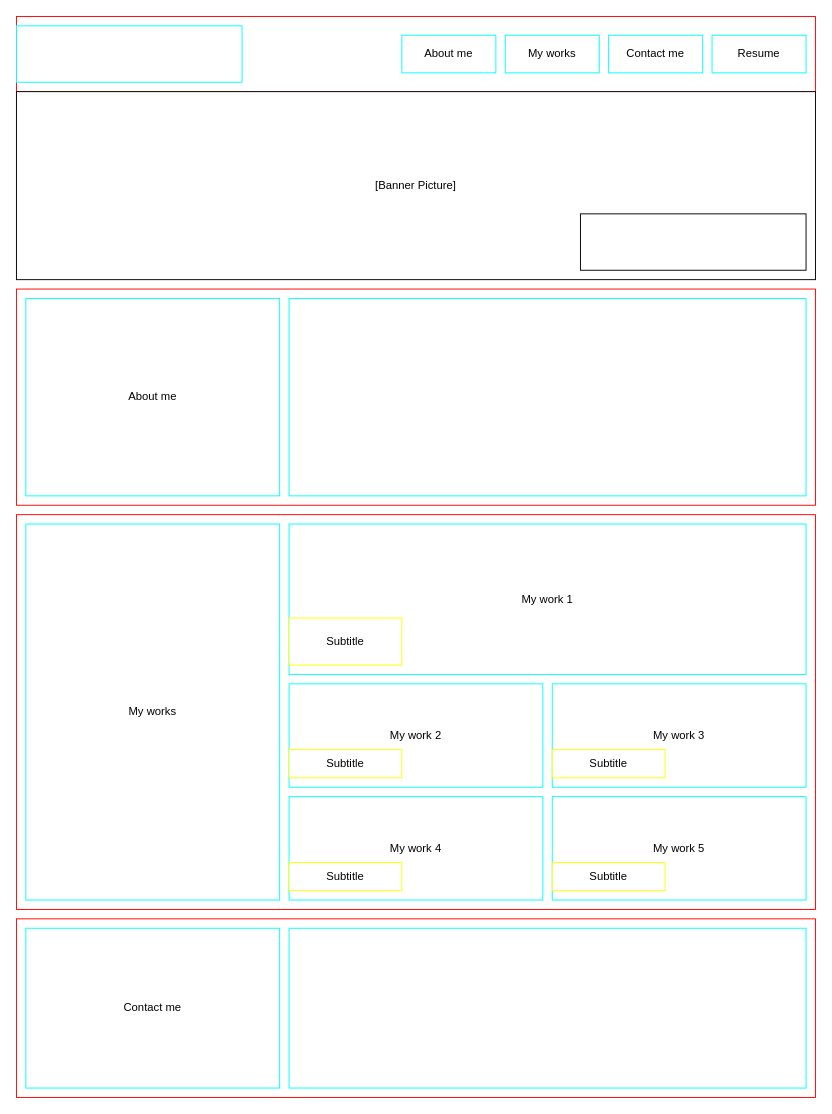
Image size: 832x1114. Some labels were removed from this diagram. Here are the shapes that lost their labels. From the top down, the centre of each, then its label:
pixel 129 53: My Name Here
pixel 693 241: Cool subtitle here!
pixel 547 397: About me stuff and things
pixel 547 1007: Contacts and things and stuff
